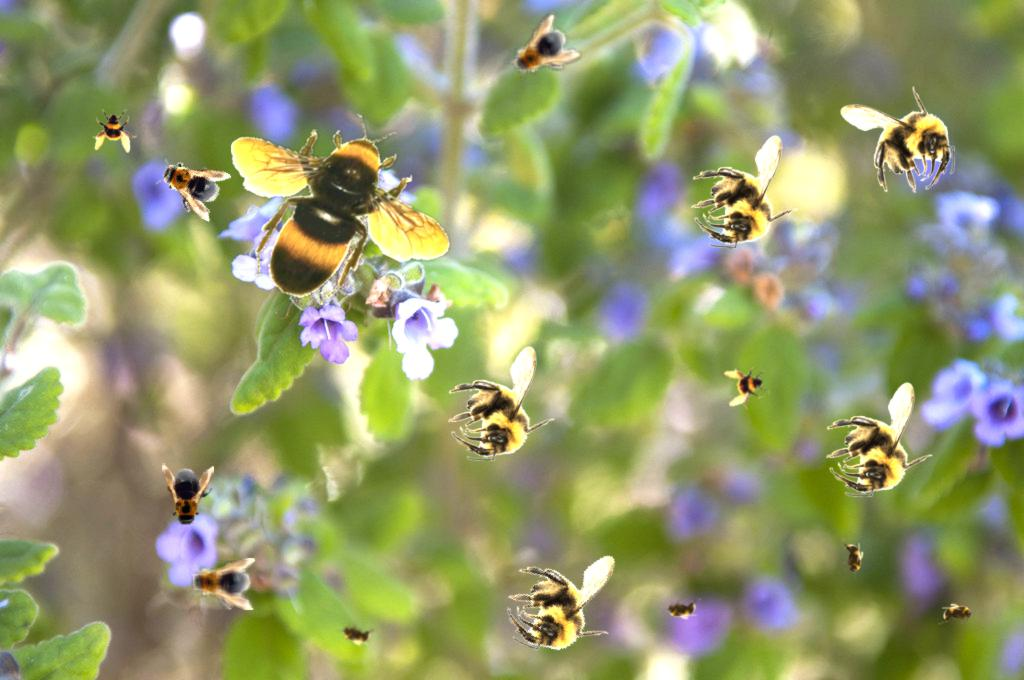Bee: (231, 114, 451, 305), (493, 526, 636, 673), (690, 132, 801, 251), (826, 382, 933, 497), (448, 346, 555, 461), (840, 86, 955, 193), (498, 11, 584, 95), (148, 147, 232, 223), (162, 463, 214, 531), (187, 558, 255, 610), (720, 360, 774, 414), (93, 109, 137, 153), (333, 617, 379, 651), (842, 539, 864, 579), (938, 603, 978, 625), (661, 598, 701, 620)
